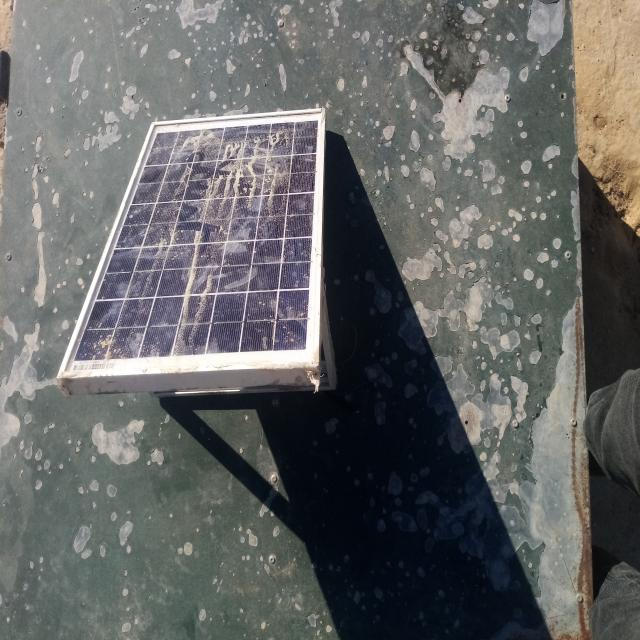faulty: (59, 109, 324, 377)
